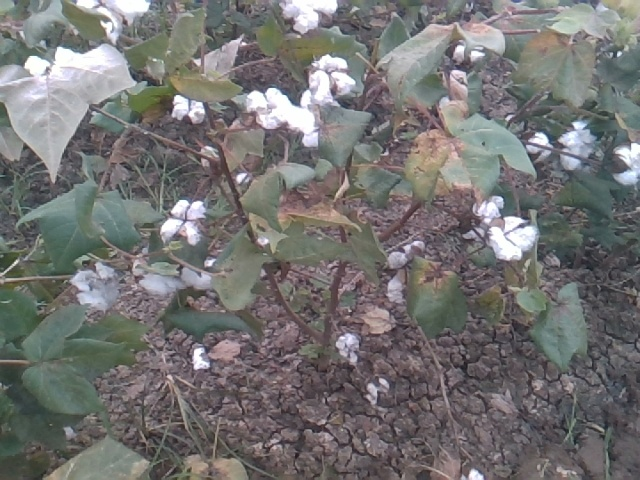cotton: (159, 198, 207, 246), (487, 217, 538, 262), (309, 54, 354, 104), (77, 2, 151, 32), (245, 85, 291, 133), (76, 262, 118, 312), (557, 120, 598, 171), (129, 257, 179, 294), (281, 1, 340, 29), (291, 103, 323, 149), (385, 239, 425, 270), (613, 142, 640, 187), (181, 264, 216, 293), (170, 94, 206, 122), (525, 130, 553, 163), (470, 194, 505, 219), (335, 332, 362, 364), (365, 375, 392, 406), (454, 42, 486, 65), (24, 54, 51, 78), (387, 275, 408, 305), (191, 347, 211, 370)
